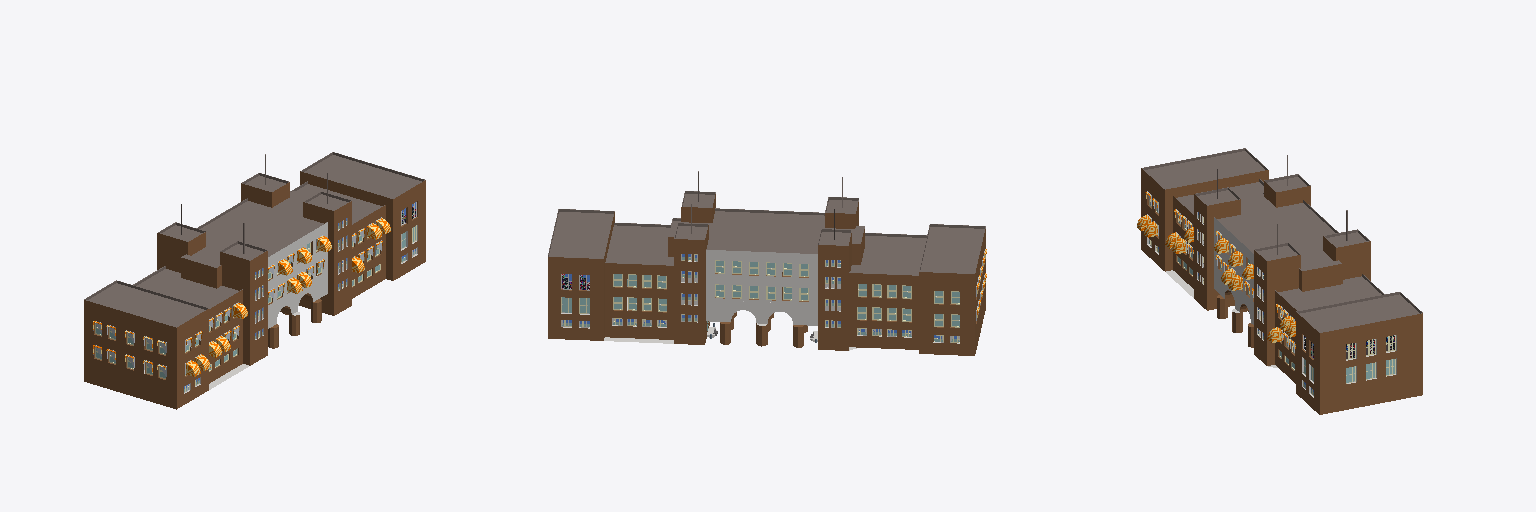
The picture shows the model from 3 angles: view 1: azimuth 30°, elevation 25°; view 2: azimuth 150°, elevation 25°; view 3: azimuth 270°, elevation 25°; orthographic projection.
Visible parts, largest first — view 1: Mesh221 Model; view 2: Mesh221 Model; view 3: Mesh221 Model.
Part boxes in pixels (bbox=[...]): Mesh221 Model: bbox=[84, 152, 425, 409]; Mesh221 Model: bbox=[548, 171, 985, 355]; Mesh221 Model: bbox=[1141, 148, 1422, 414].
Size of the model in its own units: 77.53 by 26 by 50.75.
Materials: 23 (9 with a texture image).